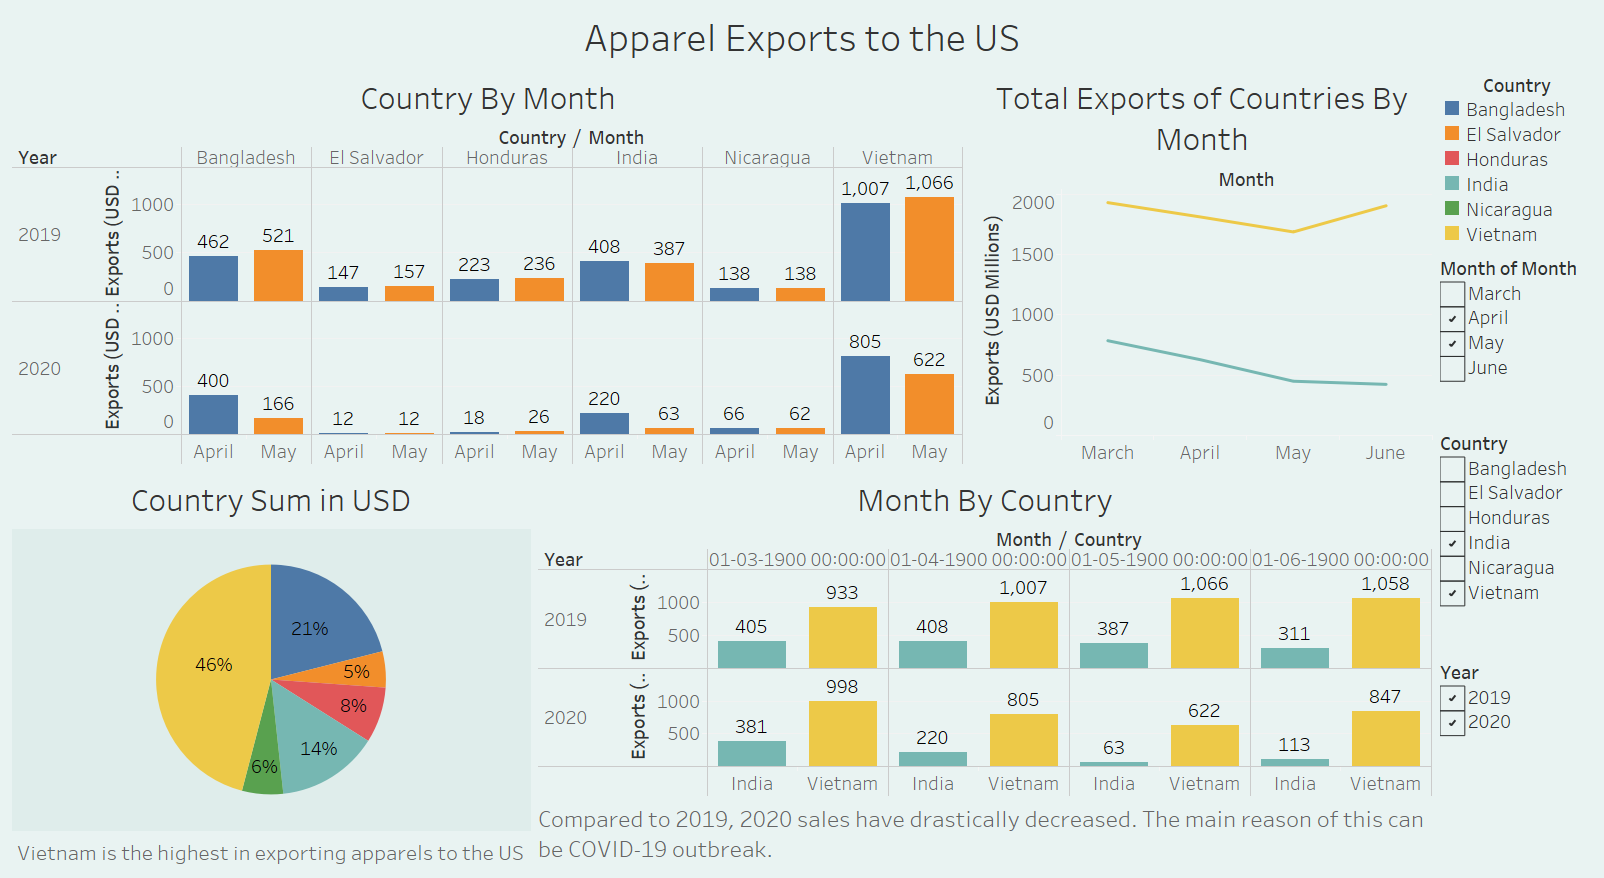

The page's visual inventory and layout, read from the dashboard file:
{"tool":"tableau","page":{"name":"Dashboard 1","canvas":[1000,1000],"units":"permille","ordinal":0},"visuals":[{"type":"worksheet","box":[0,0,1000,1000]},{"type":"worksheet","param":"vert","box":[5,9.1,990,981.8]},{"type":"worksheet","box":[5,9.1,990,66.1]},{"type":"worksheet","param":"horz","box":[5,75.2,990,915.7]},{"type":"worksheet","box":[5,75.2,890.3,915.7]},{"type":"worksheet","title":"CountryByMonth","mark":"Bar","rows":["Year","Exports (USD Millions)"],"cols":["Country","Month"],"box":[5,75.2,598.5,457.9]},{"type":"worksheet","title":"TotalExportByMonth","mark":"Automatic","rows":["Exports (USD Millions)"],"cols":["Month"],"box":[603.5,75.2,291.8,457.9]},{"type":"worksheet","param":"vert","box":[895.3,75.2,99.8,915.7]},{"type":"worksheet","title":"CountrySumInUSD","mark":"Pie","param":"[federated.0m9rr4q1xesheu193pe8h0z6jx8g].[none:Country:nk]","box":[895.3,75.2,99.8,209.6]},{"type":"worksheet","title":"CountryByMonth","mark":"Bar","rows":["Year","Exports (USD Millions)"],"cols":["Country","Month"],"param":"[federated.0m9rr4q1xesheu193pe8h0z6jx8g].[mn:Month:ok]","box":[895.3,284.7,99.8,199.3]},{"type":"worksheet","title":"MonthByCountry","mark":"Bar","rows":["Year","Exports (USD Millions)"],"cols":["Month","Country"],"param":"[federated.0m9rr4q1xesheu193pe8h0z6jx8g].[none:Country:nk]","box":[895.3,484.1,99.8,260.8]},{"type":"worksheet","title":"CountrySumInUSD","mark":"Pie","box":[5,533,327.9,457.9]},{"type":"worksheet","title":"MonthByCountry","mark":"Bar","rows":["Year","Exports (USD Millions)"],"cols":["Month","Country"],"box":[332.9,533,562.3,457.9]},{"type":"worksheet","title":"TotalExportByMonth","mark":"Automatic","rows":["Exports (USD Millions)"],"cols":["Month"],"param":"[federated.0m9rr4q1xesheu193pe8h0z6jx8g].[none:Year:ok]","box":[895.3,744.9,99.8,137.8]}]}

Visuals, with their boxes on the dashboard's canvas, which has no fixed pixel size, in thousandths of its width and height (x1, y1, x2, y2). These are canvas units, not pixel positions in the 1604x878 screenshot, which may show the page scaled, cropped or inside an application window:
worksheet: select_region(0, 0, 1000, 1000)
worksheet: select_region(5, 9, 995, 991)
worksheet: select_region(5, 9, 995, 75)
worksheet: select_region(5, 75, 995, 991)
worksheet: select_region(5, 75, 895, 991)
"CountryByMonth" worksheet (Bar marks): select_region(5, 75, 604, 533)
"TotalExportByMonth" worksheet: select_region(604, 75, 895, 533)
worksheet: select_region(895, 75, 995, 991)
"CountrySumInUSD" worksheet (Pie marks): select_region(895, 75, 995, 285)
"CountryByMonth" worksheet (Bar marks): select_region(895, 285, 995, 484)
"MonthByCountry" worksheet (Bar marks): select_region(895, 484, 995, 745)
"CountrySumInUSD" worksheet (Pie marks): select_region(5, 533, 333, 991)
"MonthByCountry" worksheet (Bar marks): select_region(333, 533, 895, 991)
"TotalExportByMonth" worksheet: select_region(895, 745, 995, 883)
